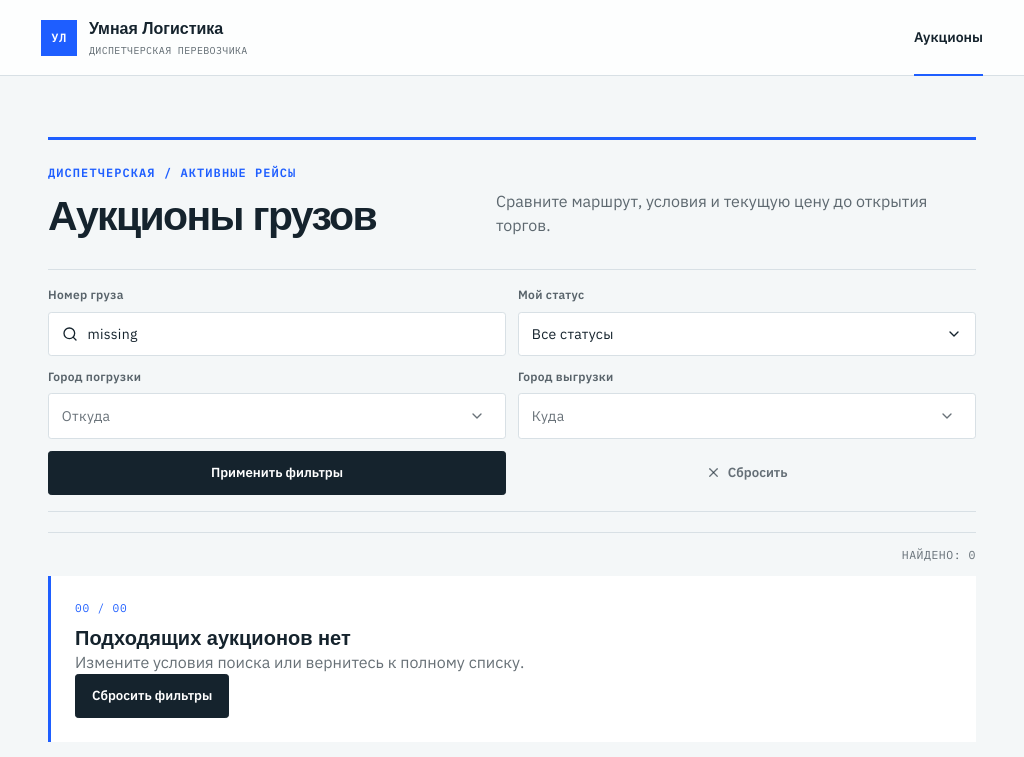
it: auction list feature › guides recovery from an empty result
Expected: the heading "Подходящих аукционов нет" is shown, [75, 627, 351, 649]
Step 1. Click the button "Сбросить фильтры" → (152, 696), box [75, 674, 229, 718]
(page scrolled)
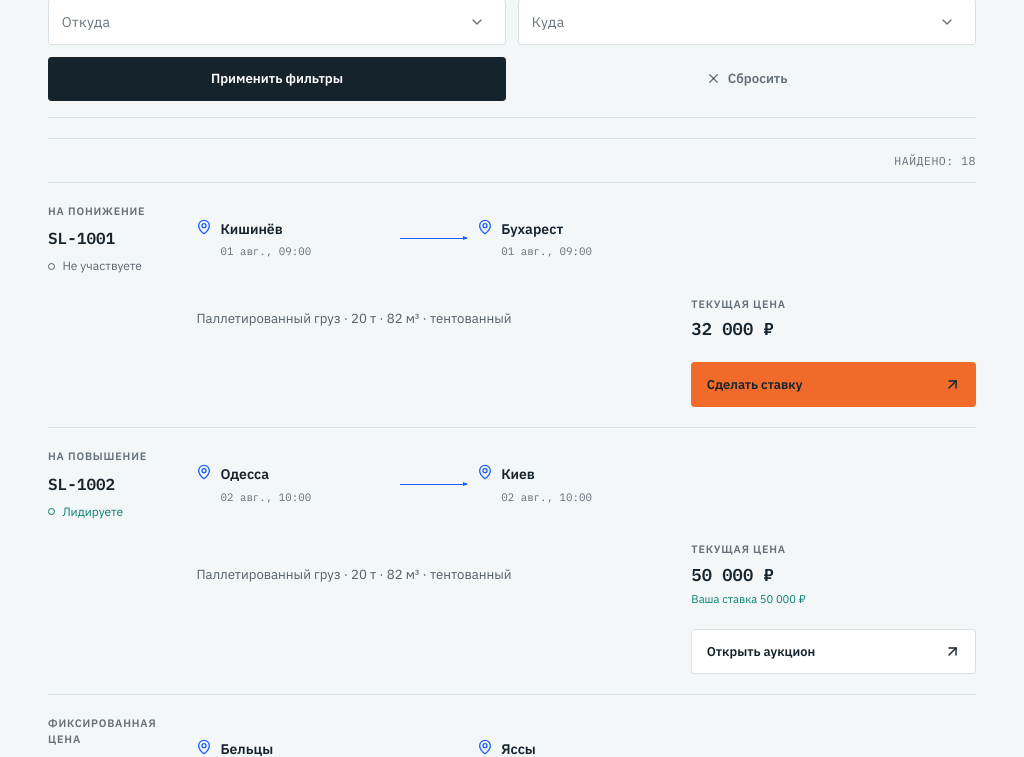
Now the link with aria-label "SL-1001" is shown, box [691, 362, 976, 407]
